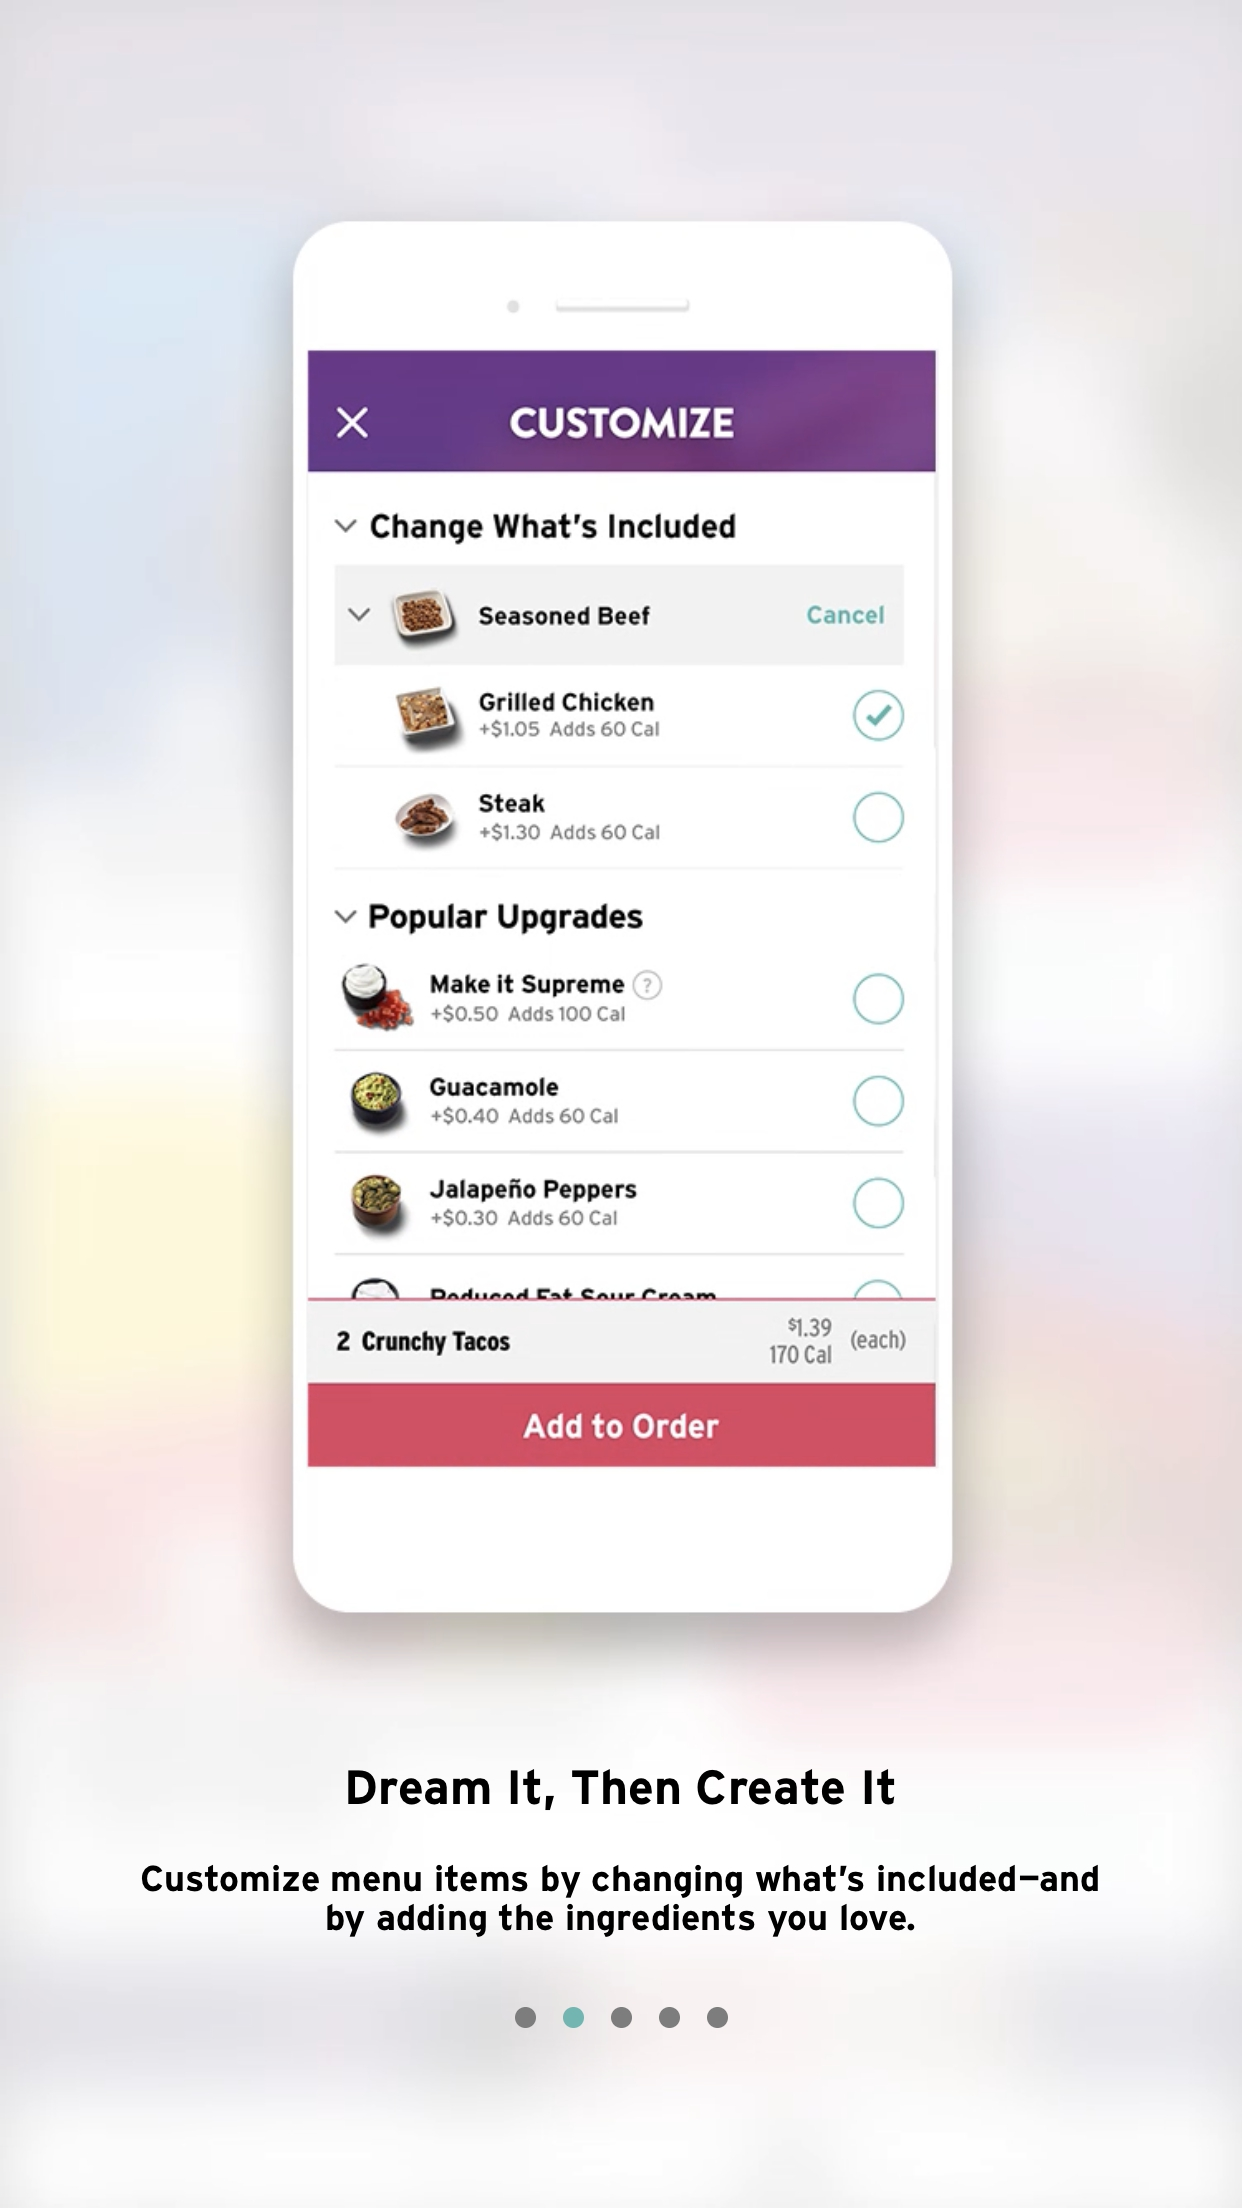Image: (293, 221, 954, 1614)
PageIndicator: (514, 2006, 729, 2029)
Text: (143, 1864, 1099, 1938), (347, 1768, 896, 1811)
